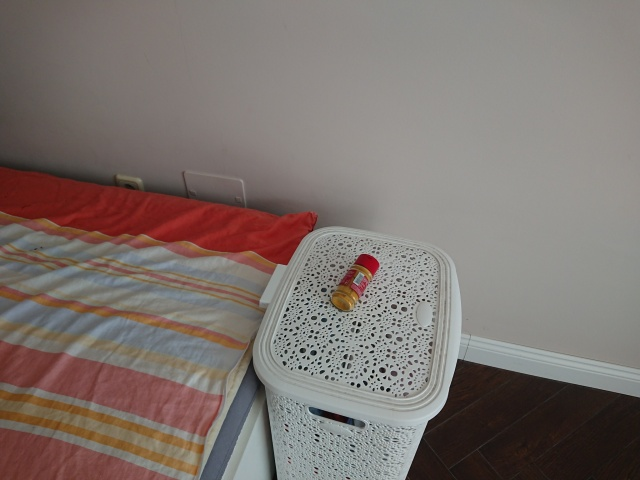Kotanyi Curry Spices Mix 70g: (328, 252, 381, 314)
